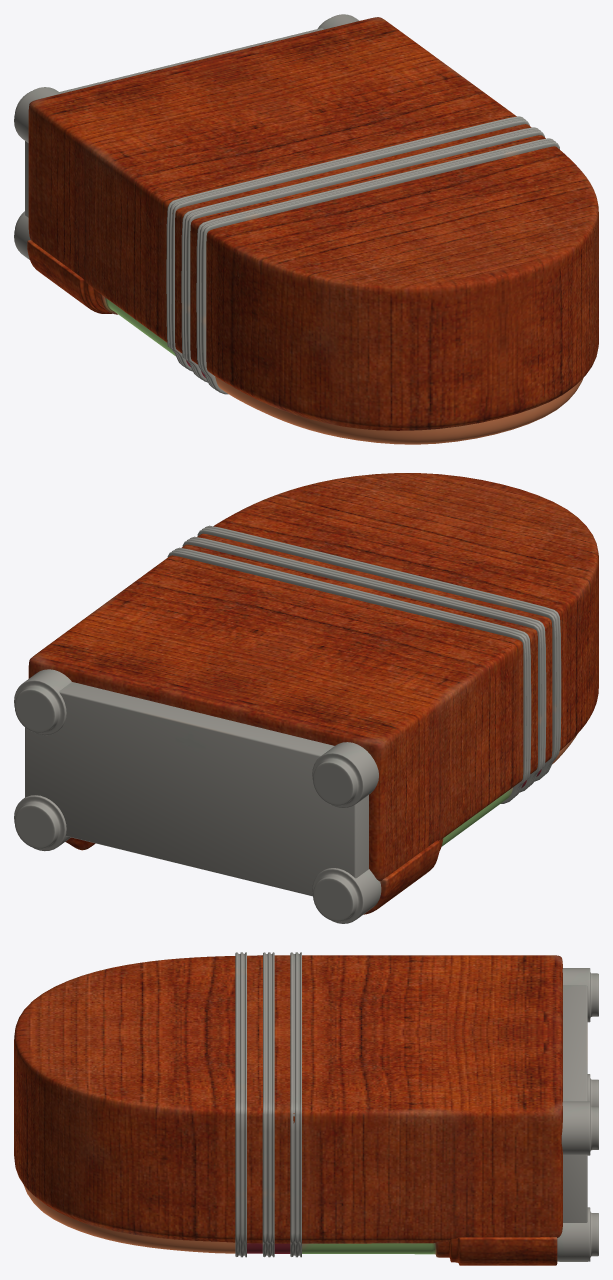
The model's file is Jukebox.fbx.
The picture shows the model from 3 angles, top to bottom: view 1: azimuth 30°, elevation 25°; view 2: azimuth 150°, elevation 25°; view 3: azimuth 270°, elevation 25°; orthographic projection. The views are drawn at different scales.
Visible parts, largest first — view 1: 20344_Jukebox_bubbler_style_V2 Textured; view 2: 20344_Jukebox_bubbler_style_V2 Textured; view 3: 20344_Jukebox_bubbler_style_V2 Textured.
Boxes of the visible parts, left/top/right/bottom form: 20344_Jukebox_bubbler_style_V2 Textured: left=14, top=14, right=598, bottom=444; 20344_Jukebox_bubbler_style_V2 Textured: left=14, top=473, right=598, bottom=923; 20344_Jukebox_bubbler_style_V2 Textured: left=14, top=952, right=598, bottom=1265.
Bounding box in the file's own units: 676 × 334 × 1038.
Materials: 1 (1 with a texture image).
